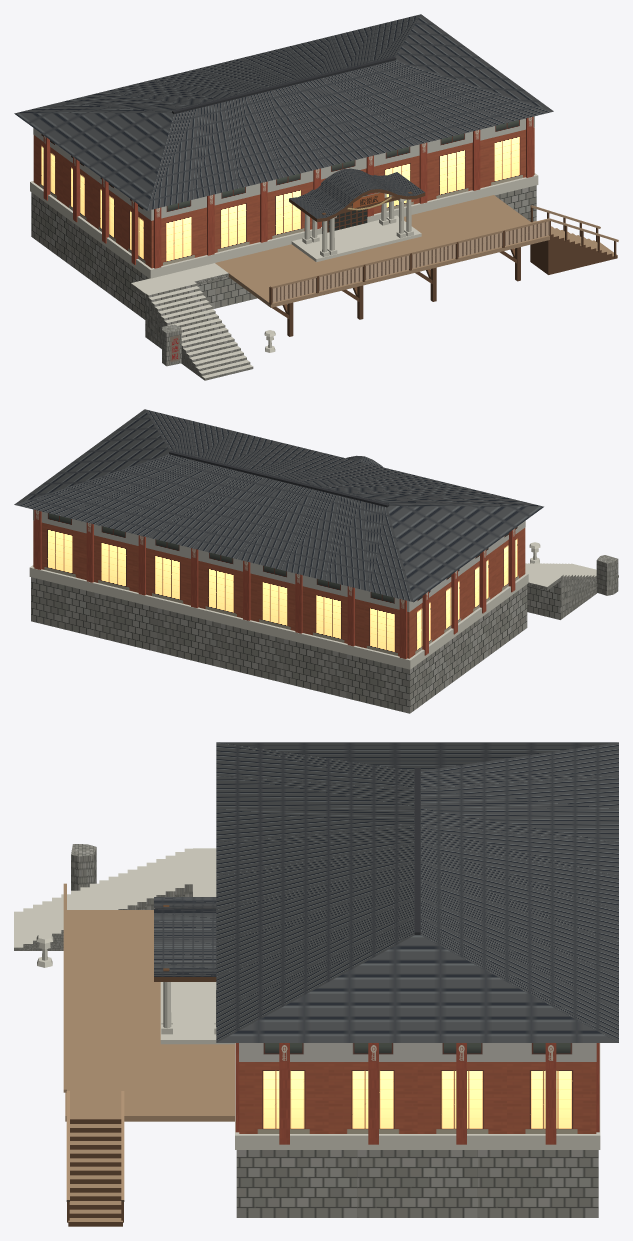
File: hamasen-wude.glb
3 renders of one model, top to bottom at view 1: azimuth 30°, elevation 25°; view 2: azimuth 150°, elevation 25°; view 3: azimuth 270°, elevation 25°, orthographic. The views are drawn at different scales.
Parts seen in each view (by area): view 1: hamasen-wude.001; view 2: hamasen-wude.001; view 3: hamasen-wude.001.
Boxes of the visible parts, x1=… form: hamasen-wude.001: x1=14, y1=14, x2=618, y2=380; hamasen-wude.001: x1=14, y1=409, x2=618, y2=713; hamasen-wude.001: x1=14, y1=742, x2=618, y2=1226.
Size of the model in its own units: 29.54 by 9.34 by 22.71.
1 material, 1 textured.
